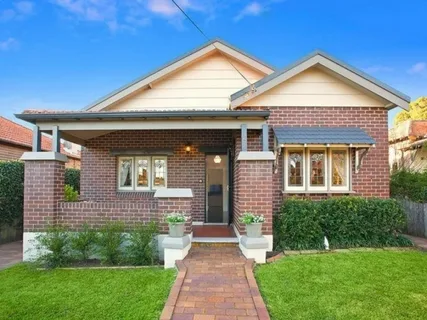private_hause: (52, 39, 406, 238)
